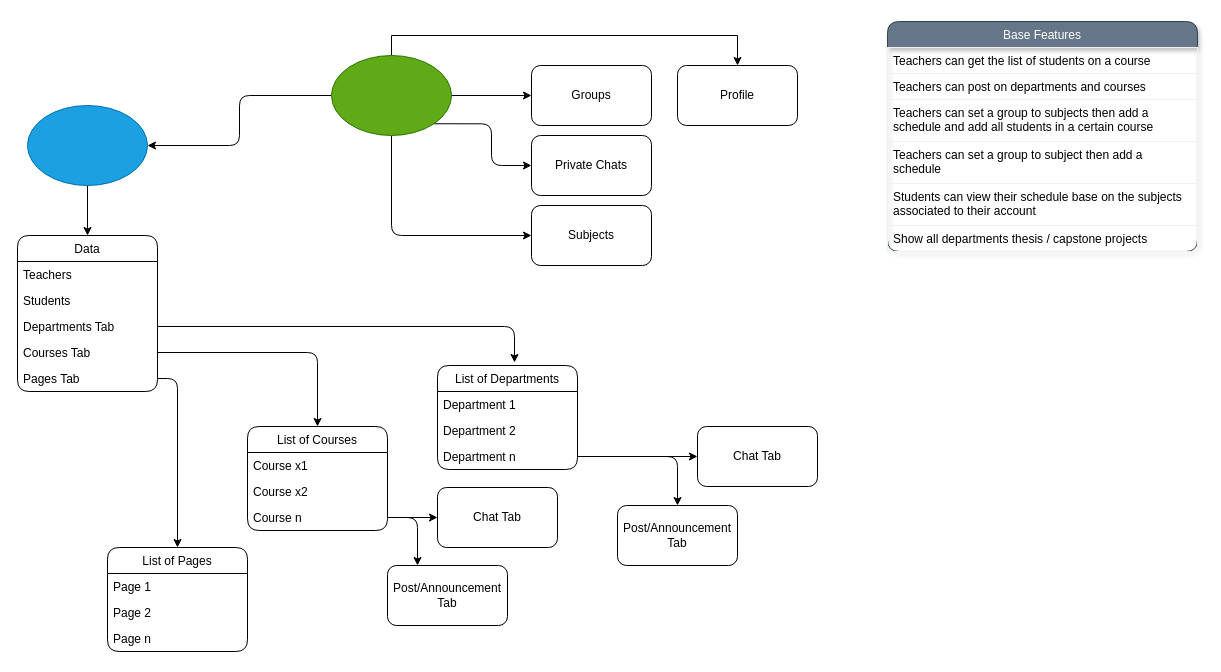
Image size: 1221x672. Some labels were removed from this diagram. The shapes that lost their labels are listed below. From the top down, each one's centre as x and y in pixels, then its label:
At (391,95): "User".
At (87,145): "University".
